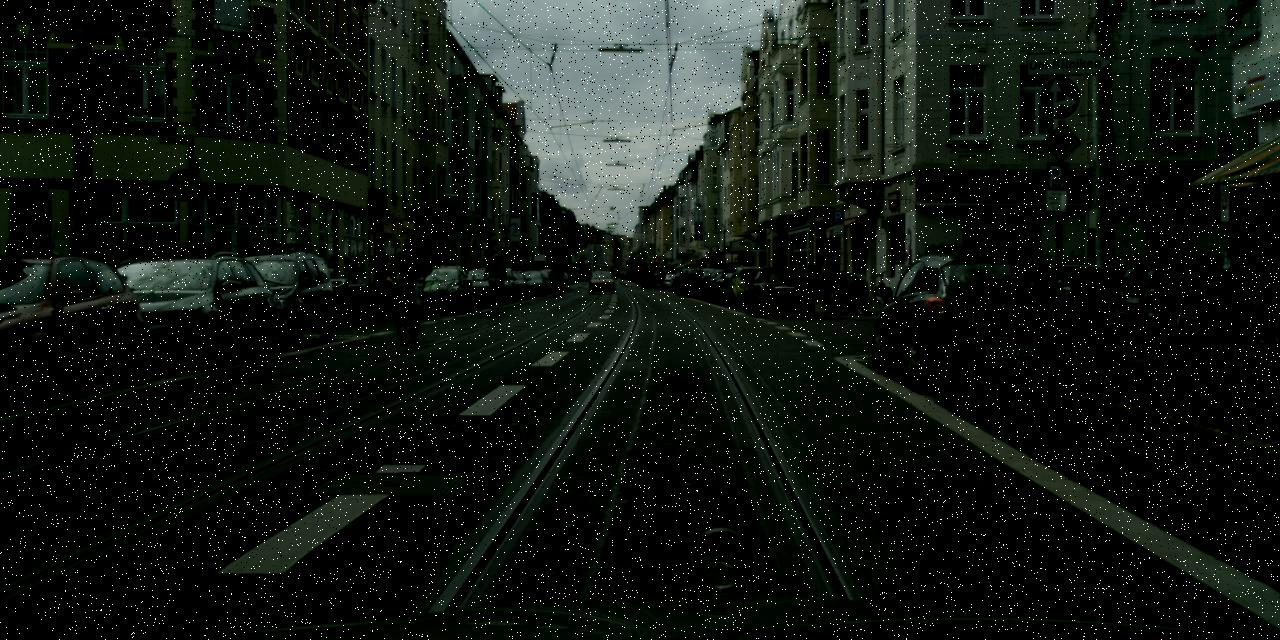ped: (21, 232, 68, 350), (0, 237, 36, 349), (390, 239, 426, 325), (1181, 251, 1203, 308), (485, 252, 506, 306), (373, 260, 392, 306), (788, 259, 802, 295), (770, 259, 783, 293), (548, 265, 558, 287), (556, 266, 565, 290)
